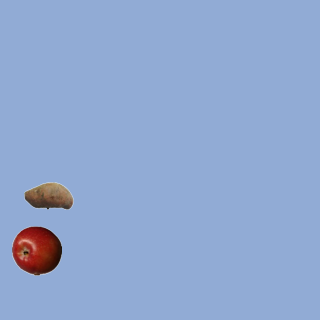Apple Braeburn: (11, 225, 61, 275)
Potato Sweet: (23, 170, 73, 220)
